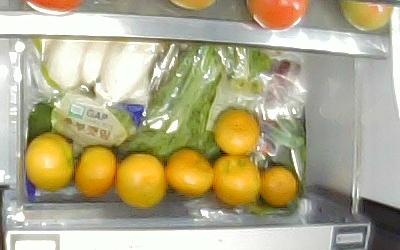tangerine: (25, 132, 75, 190), (116, 153, 166, 208), (214, 154, 260, 206), (166, 149, 213, 196), (212, 108, 260, 154), (75, 146, 116, 198), (260, 166, 297, 206)
